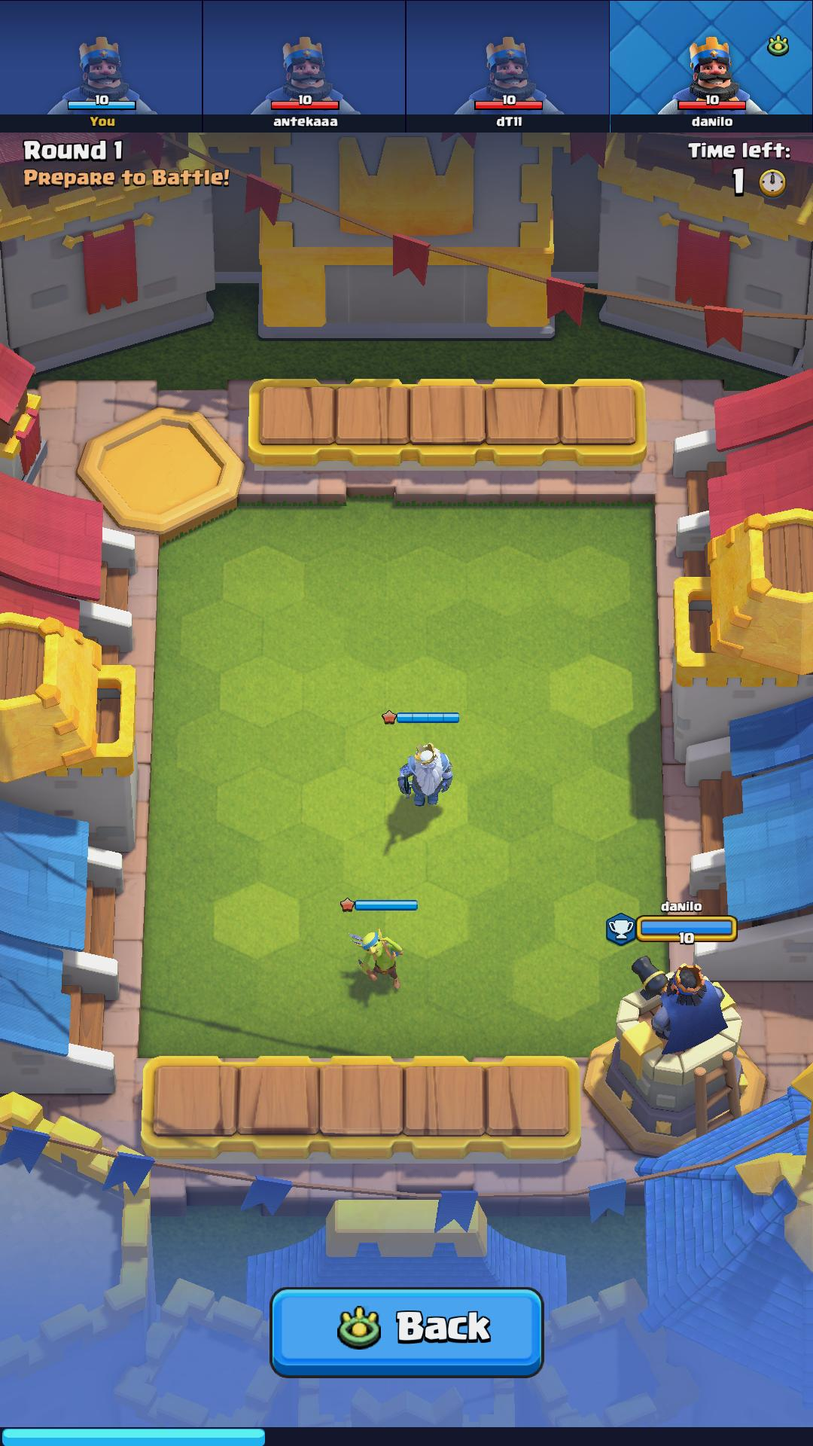ghost: (378, 730, 473, 814)
spear: (347, 924, 412, 989)
